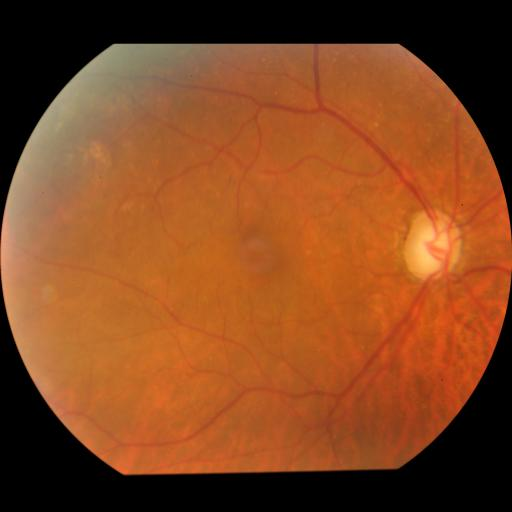Optic Cup: (419, 228, 451, 264)
Optic Disc: (404, 208, 461, 281)
